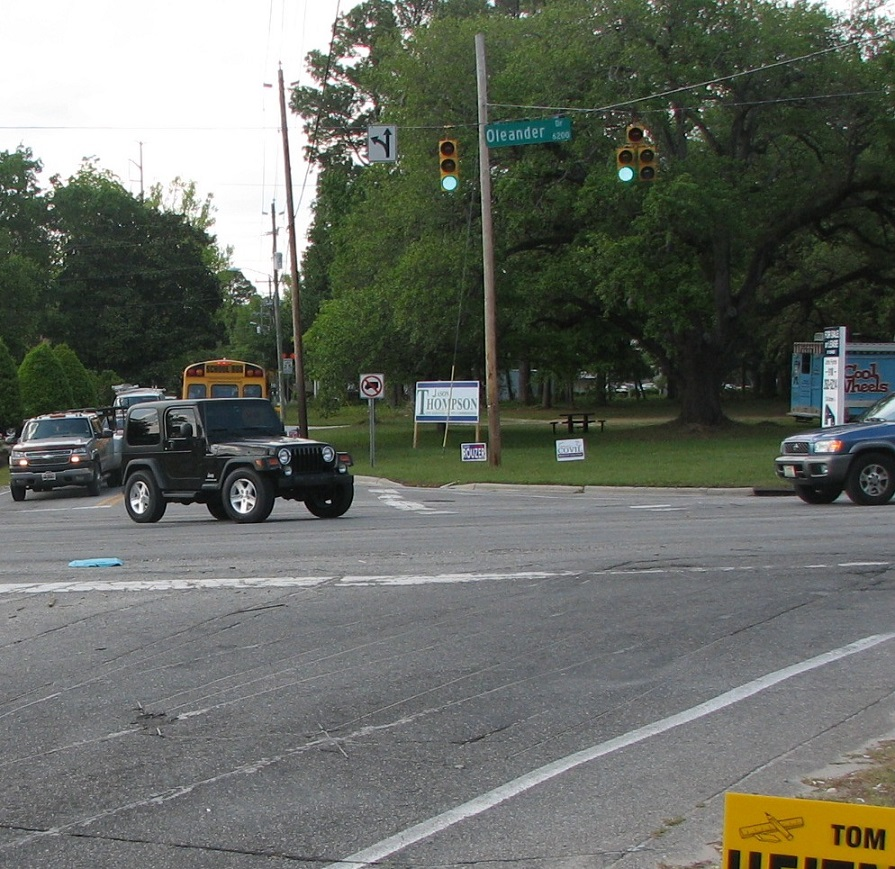traffic_light: (614, 124, 659, 184), (436, 138, 463, 194)
